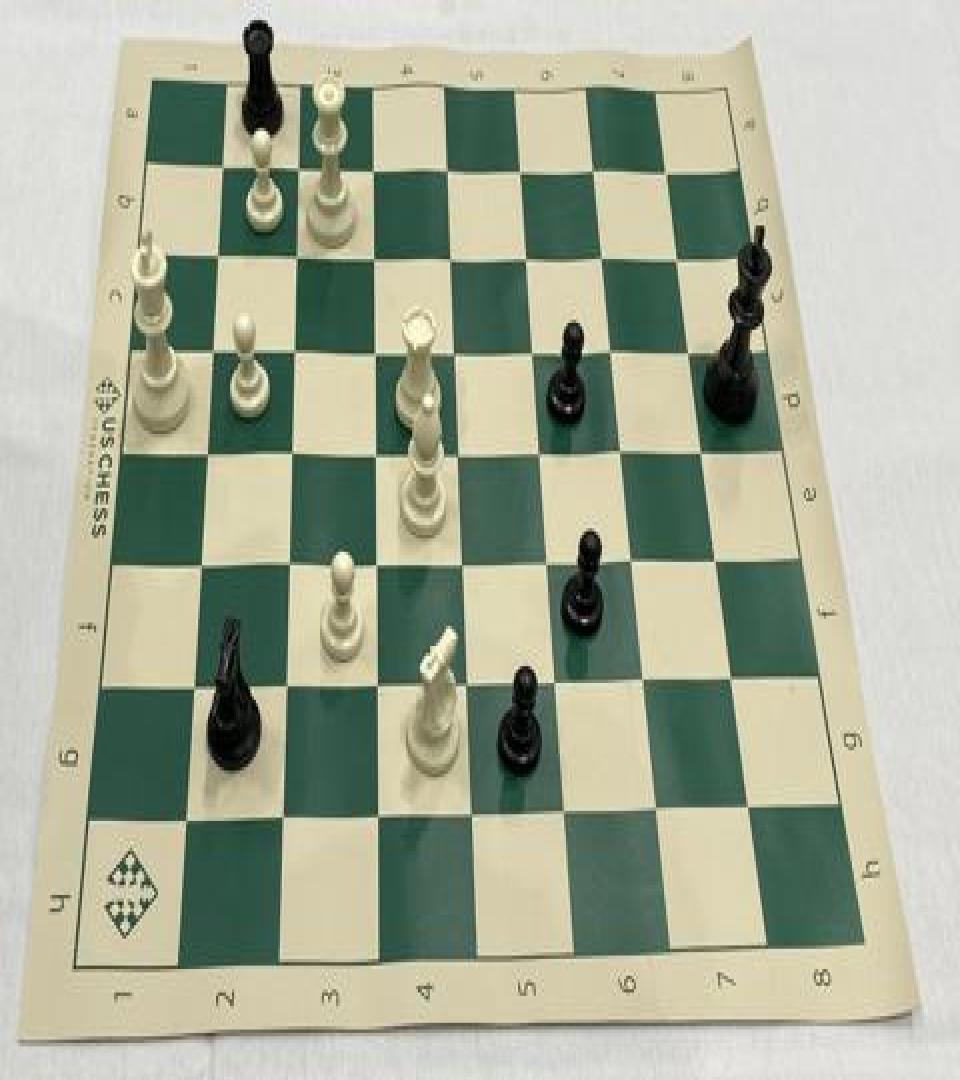xcorner: (435, 146, 457, 184), (361, 146, 383, 184), (286, 144, 308, 182), (211, 144, 233, 182), (706, 538, 728, 576), (621, 538, 643, 576), (582, 148, 604, 185), (509, 148, 531, 185), (515, 234, 537, 271), (438, 234, 460, 271), (361, 234, 383, 271), (284, 232, 306, 269), (206, 232, 228, 269), (679, 328, 701, 365), (600, 328, 622, 365), (521, 328, 543, 365), (442, 328, 464, 365), (362, 328, 384, 365), (281, 328, 303, 365), (200, 328, 222, 365), (692, 429, 714, 466), (610, 429, 632, 466), (528, 429, 550, 466), (446, 429, 468, 466), (362, 429, 384, 466), (279, 429, 301, 466), (194, 431, 216, 468), (536, 540, 558, 577), (450, 540, 472, 577), (363, 540, 385, 577), (722, 656, 744, 693), (633, 658, 655, 695), (364, 661, 386, 698), (272, 661, 294, 698), (180, 663, 202, 700), (553, 789, 575, 826), (459, 791, 481, 828), (364, 792, 386, 829), (269, 794, 291, 831), (655, 150, 677, 186), (666, 236, 688, 272), (591, 236, 613, 272), (276, 542, 298, 578), (188, 542, 210, 578), (544, 660, 566, 696), (454, 660, 476, 696), (739, 786, 761, 822), (647, 788, 669, 824), (173, 796, 195, 832)
